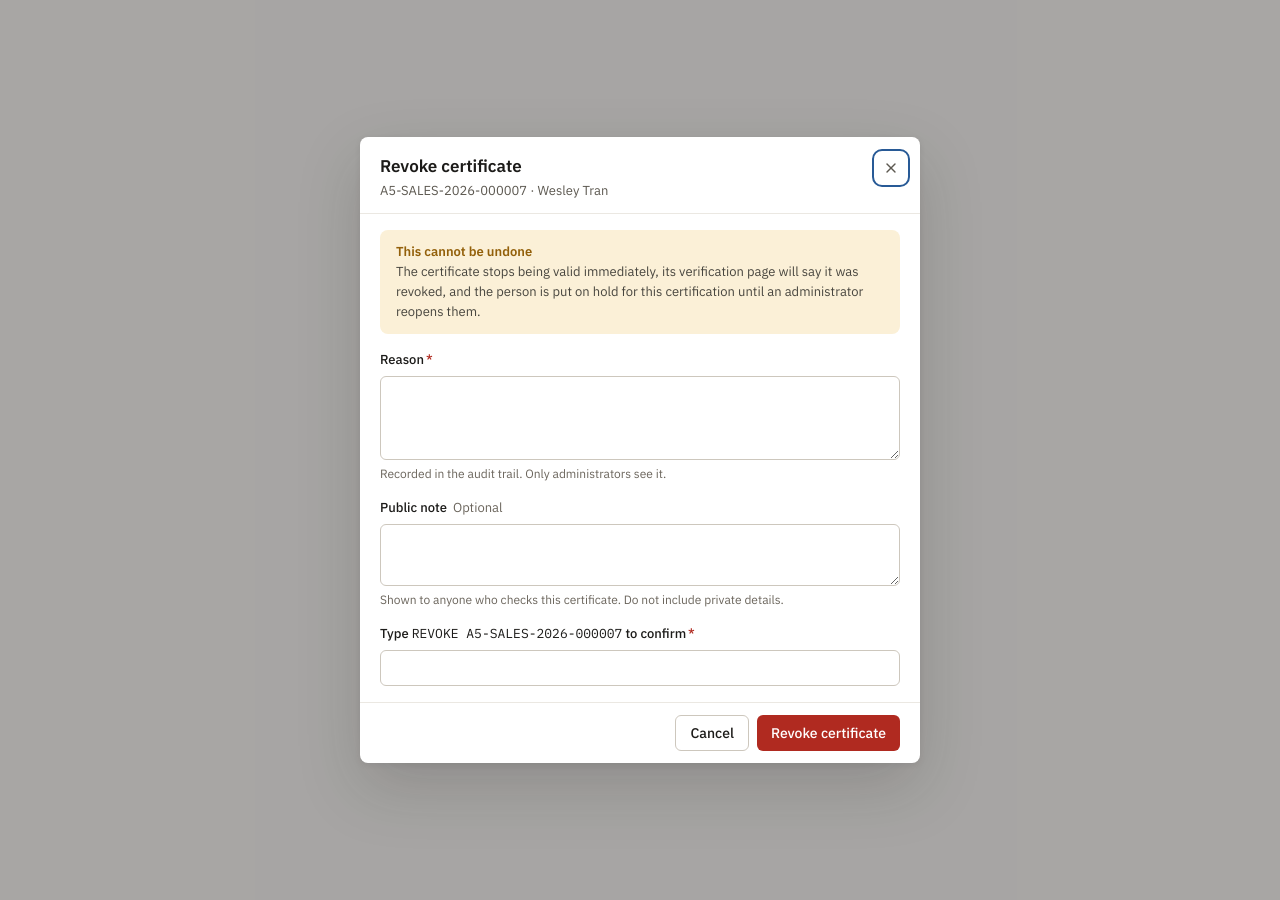
Scenario: RevokeDialog › requires a reason and the typed phrase before anything is sent
Click the button "Revoke certificate": (828, 733) [757, 715, 900, 751]
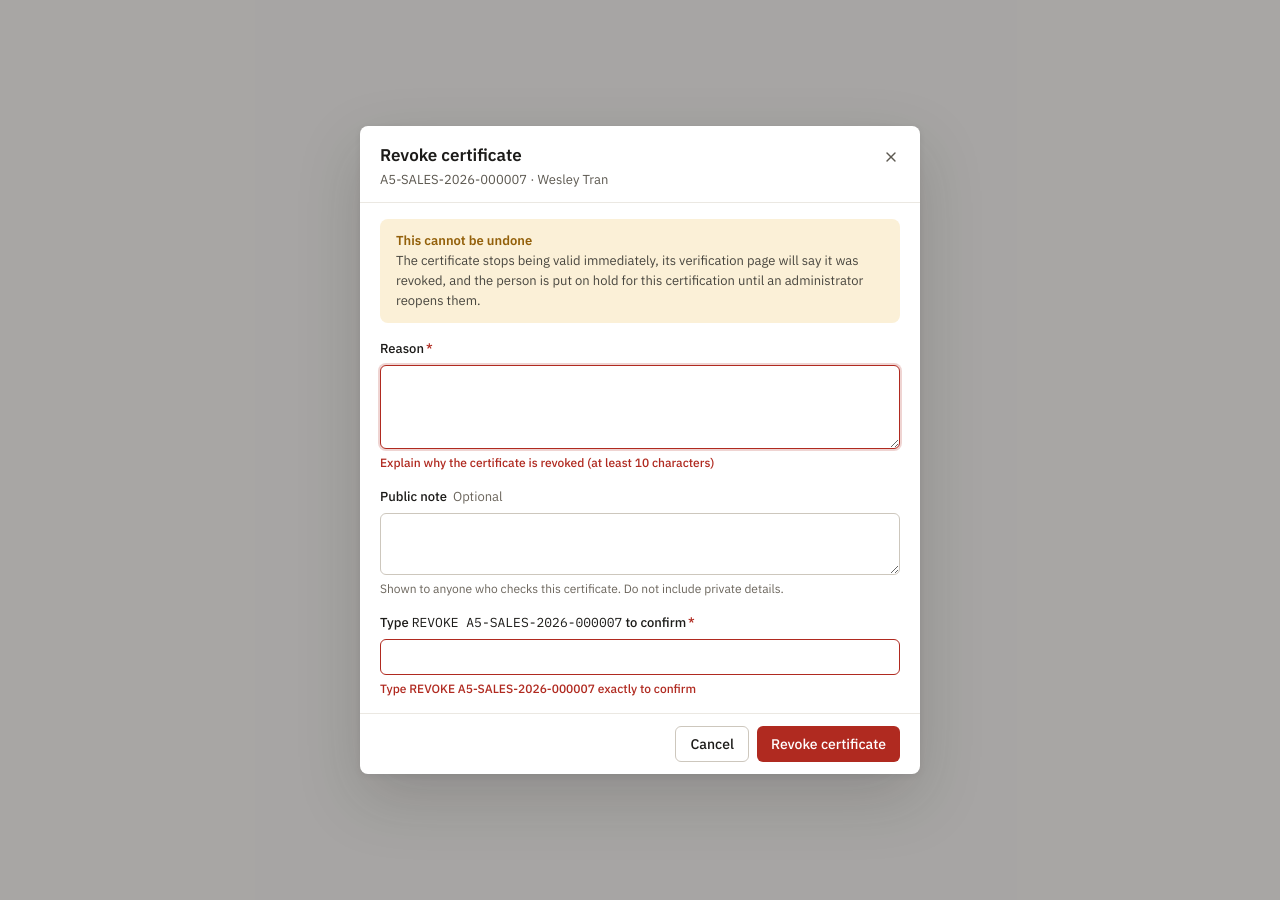
Result: the text "Explain why the certificate is revoked (at least 10 characters)" is shown at [380, 455, 714, 470]
